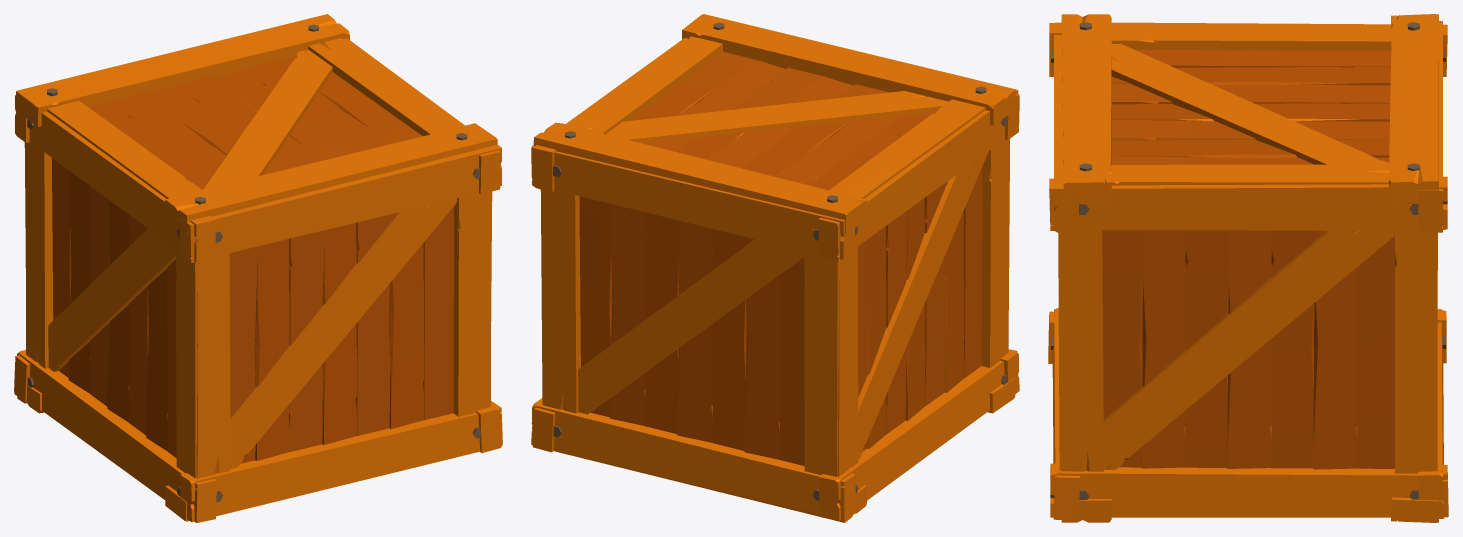
File: Crate.fbx
3 views of the same model, side by side, from view 1: azimuth 30°, elevation 25°; view 2: azimuth 150°, elevation 25°; view 3: azimuth 270°, elevation 25° (orthographic). The views are drawn at different scales.
Parts seen in each view (by area): view 1: Cylinder.005; view 2: Cylinder.005; view 3: Cylinder.005.
Boxes of the visible parts, x1=… form: Cylinder.005: x1=14, y1=14, x2=502, y2=522; Cylinder.005: x1=531, y1=14, x2=1019, y2=522; Cylinder.005: x1=1048, y1=14, x2=1448, y2=522.
Bounding box in the file's own units: 140 × 134 × 140.
1 material, 1 textured.
